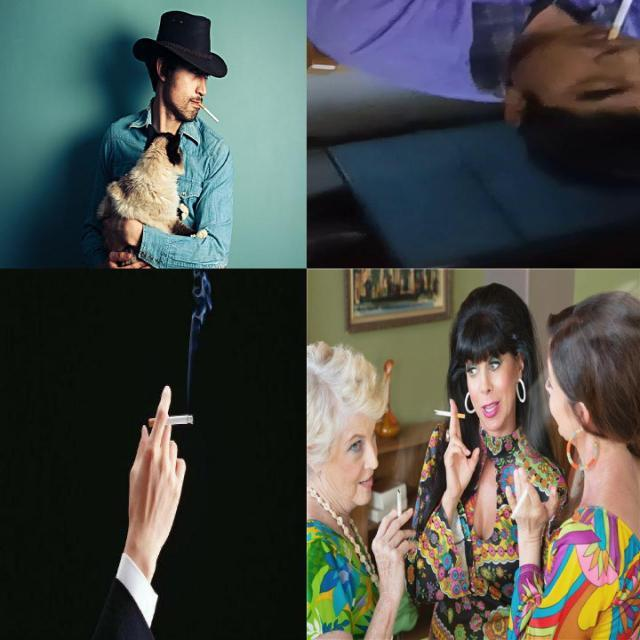smoking: (508, 470, 538, 526), (607, 0, 636, 40), (148, 414, 194, 428), (432, 404, 467, 420), (392, 484, 405, 524), (198, 102, 220, 124)
